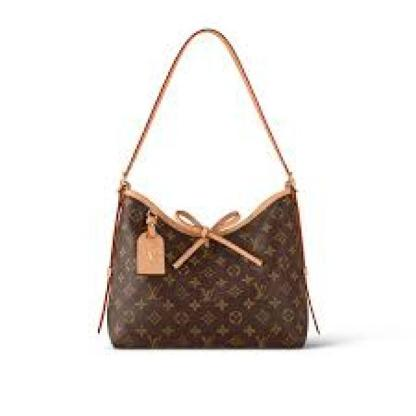bag: (89, 20, 322, 353)
